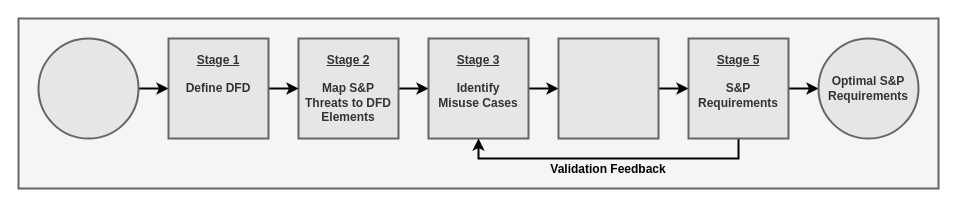
This 956x206 diagram has some shape labels left out. Each missing label, with the centre of its shape:
Stage 4 Risk-Based Quantification of Attack Trees: point 608,88
Use Case Description: point 88,88
